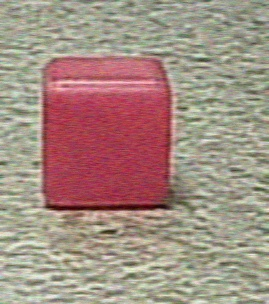orange_cube: (28, 42, 187, 215)
